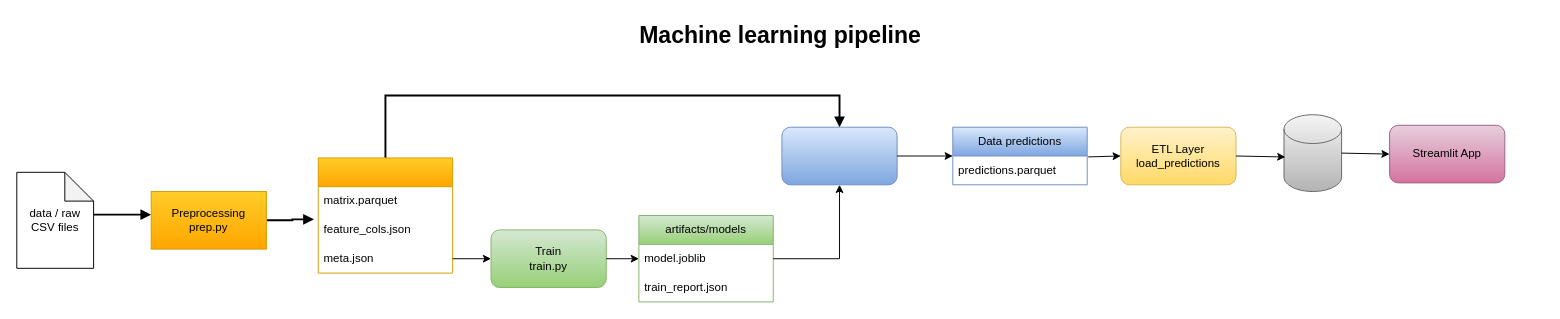
Image size: 1560x319. Some labels were removed from this diagram. The box of each missing label's shape, as (x1, y1, x2, y2) in pixels:
data/ prep: (317, 157, 453, 273)
Inference inference.py: (781, 126, 897, 185)
RDS: (1283, 114, 1342, 192)
